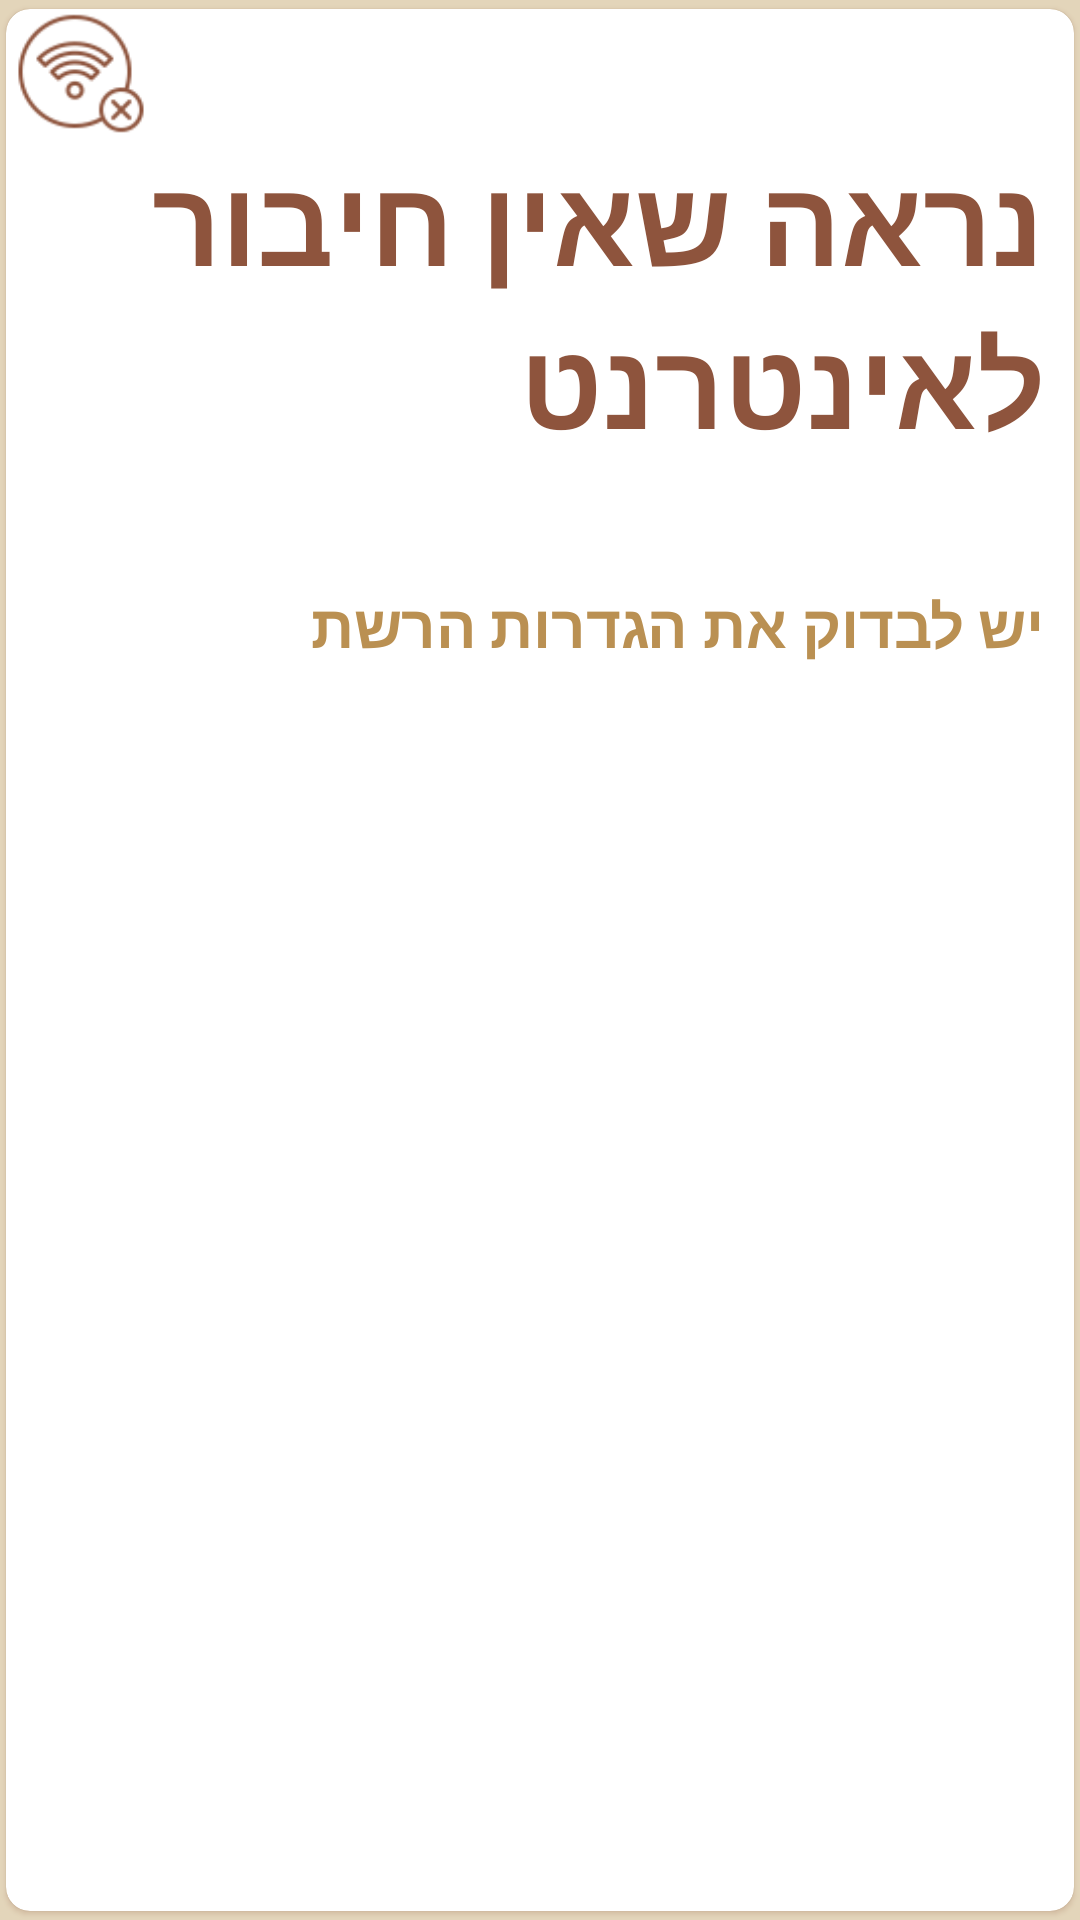

Point at icon controls on the screen. Image size 1080×1920, points as point (x, y).
wifi: point (81, 73)
